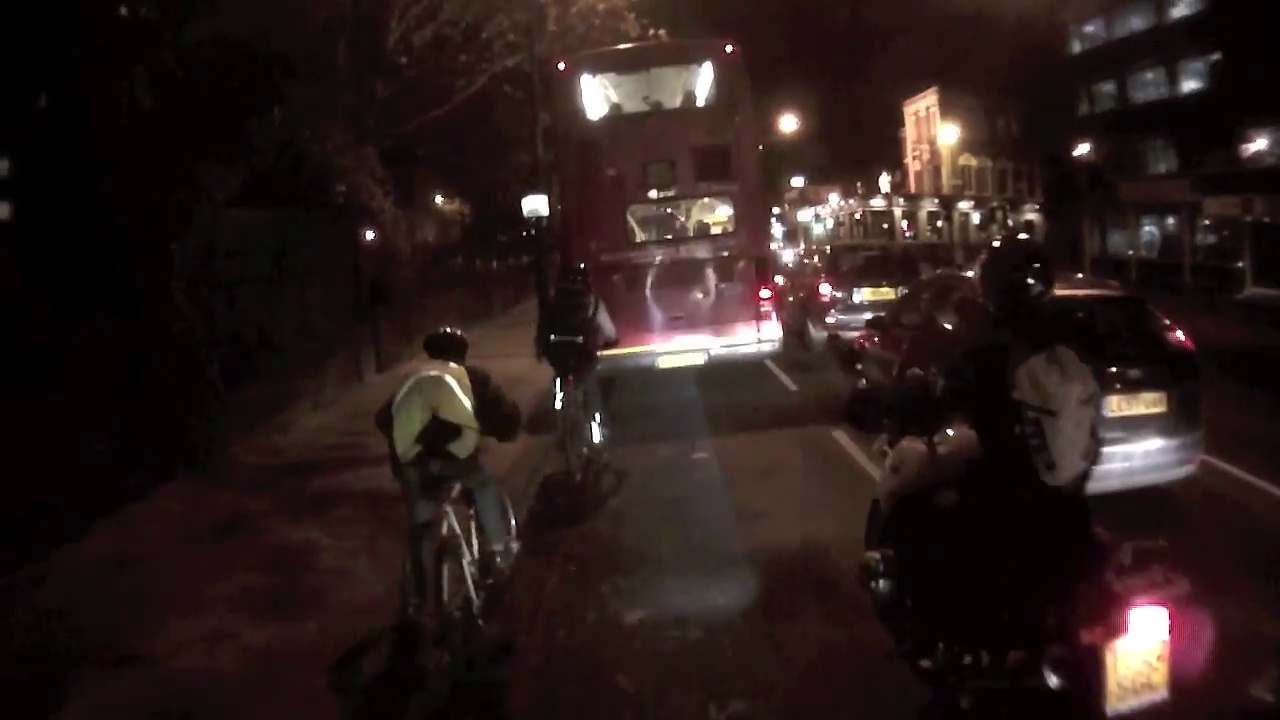cyclist_back: (382, 326, 529, 633), (526, 253, 614, 465)
